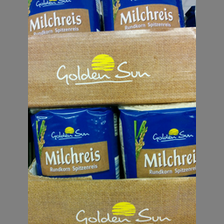rice: (30, 106, 121, 178), (118, 102, 196, 178), (101, 1, 186, 31), (28, 1, 102, 34)
